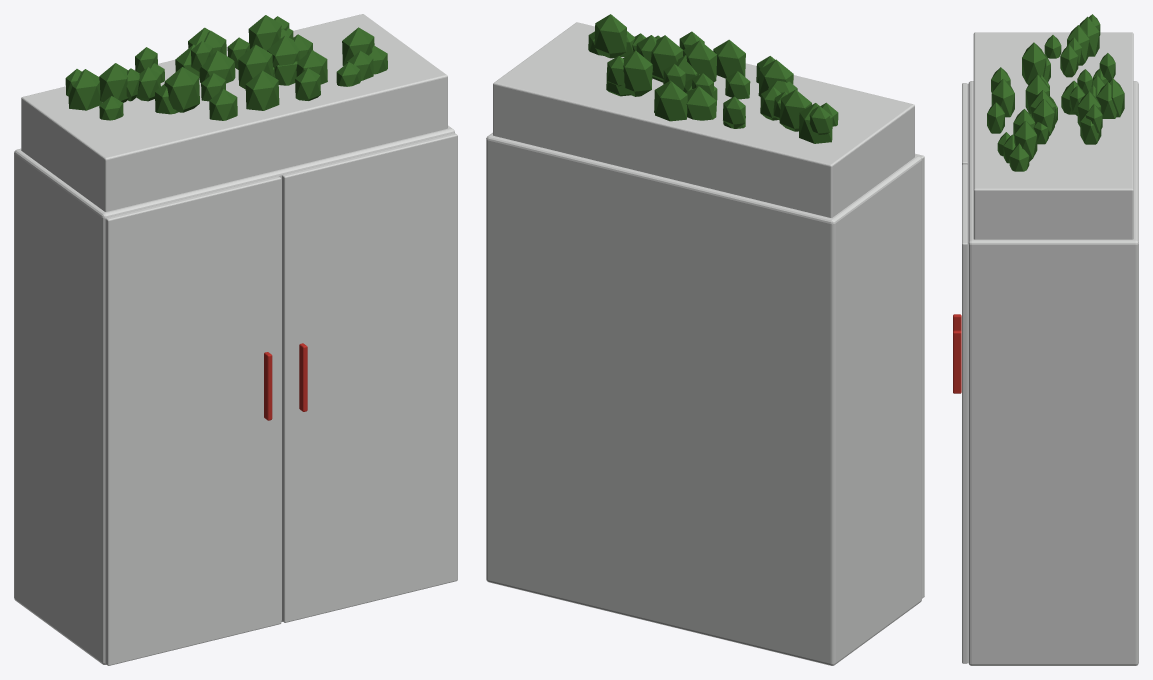
Rendered from 24_桌边柜_员工区_含花槽.glb.
3 renders of one model, left to right at view 1: azimuth 30°, elevation 25°; view 2: azimuth 150°, elevation 25°; view 3: azimuth 270°, elevation 25°, orthographic. The views are drawn at different scales.
Parts seen in each view (by area): view 1: 柜门, 柜门.001, 柜身, 顶部花槽, Icosphere.022, Icosphere.032, Icosphere.027, Icosphere.007, Icosphere.002, Icosphere.009, Icosphere.012, Icosphere.010 (+3 smaller); view 2: 柜身, 顶部花槽, 柜门, Icosphere.010, Icosphere.009, Icosphere.013, Icosphere.032, Icosphere.034, Icosphere.007, Icosphere.002, Icosphere.003, Icosphere.022 (+1 smaller); view 3: 柜身, 顶部花槽, 柜门.001, Icosphere.022, Icosphere.032, Icosphere.010, 门把手.001, Icosphere.024, 柜门, Icosphere.004, Icosphere.014, Icosphere.023 (+11 smaller).
Part boxes in pixels (left/top/right/bottom): 柜门: left=105, top=176, right=281, bottom=665; 柜门.001: left=282, top=133, right=457, bottom=622; 柜身: left=14, top=125, right=454, bottom=664; 顶部花槽: left=21, top=14, right=447, bottom=211; Icosphere.022: left=164, top=67, right=199, bottom=112; Icosphere.032: left=245, top=70, right=279, bottom=110; Icosphere.027: left=68, top=69, right=102, bottom=110; Icosphere.007: left=238, top=44, right=273, bottom=89; Icosphere.002: left=99, top=63, right=128, bottom=102; Icosphere.009: left=248, top=15, right=281, bottom=50; Icosphere.012: left=199, top=50, right=235, bottom=83; Icosphere.010: left=342, top=27, right=374, bottom=65; 柜身: left=486, top=132, right=921, bottom=665; 顶部花槽: left=493, top=22, right=914, bottom=217; 柜门: left=915, top=153, right=924, bottom=598; Icosphere.010: left=594, top=14, right=626, bottom=58; Icosphere.009: left=623, top=50, right=652, bottom=96; Icosphere.013: left=655, top=81, right=687, bottom=121; Icosphere.032: left=713, top=39, right=745, bottom=78; Icosphere.034: left=650, top=35, right=683, bottom=80; Icosphere.007: left=683, top=40, right=716, bottom=81; Icosphere.002: left=779, top=89, right=811, bottom=131; Icosphere.003: left=686, top=86, right=716, bottom=120; Icosphere.022: left=758, top=59, right=793, bottom=96; 柜身: left=968, top=81, right=1138, bottom=665; 顶部花槽: left=973, top=32, right=1133, bottom=239; 柜门.001: left=962, top=164, right=967, bottom=663; Icosphere.022: left=1022, top=42, right=1046, bottom=84; Icosphere.032: left=991, top=78, right=1014, bottom=117; Icosphere.010: left=1014, top=120, right=1037, bottom=161; 门把手.001: left=953, top=330, right=961, bottom=393; Icosphere.024: left=1033, top=99, right=1054, bottom=136; 柜门: left=962, top=83, right=967, bottom=164; Icosphere.004: left=1097, top=82, right=1116, bottom=118; Icosphere.014: left=1060, top=44, right=1078, bottom=77; Icosphere.023: left=987, top=102, right=1004, bottom=133.
Size of the model in its own units: 0.9 by 1.34 by 0.436.
